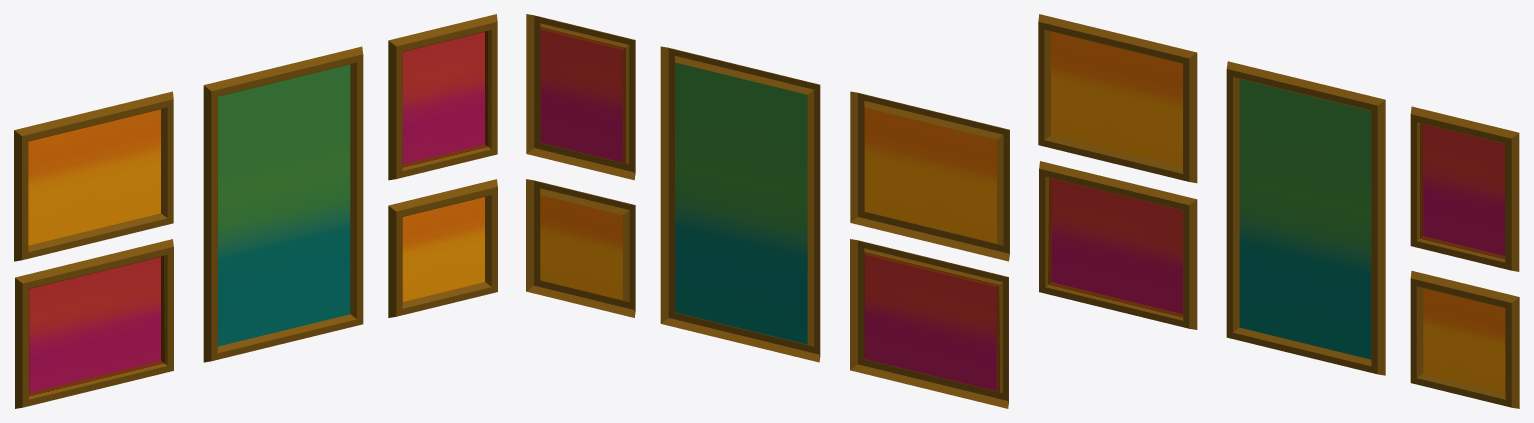
The model's file is picture.fbx.
The picture shows the model from 3 angles, left to right: view 1: azimuth 30°, elevation 25°; view 2: azimuth 150°, elevation 25°; view 3: azimuth 330°, elevation 25°; orthographic projection.
Parts seen in each view (by area): view 1: picture; view 2: picture; view 3: picture.
Boxes of the visible parts, x1,y1,x2,y2 form: picture: [14, 14, 497, 408]; picture: [526, 14, 1009, 408]; picture: [1038, 14, 1519, 408].
Bounding box in the file's own units: 540 × 298 × 8.54.
